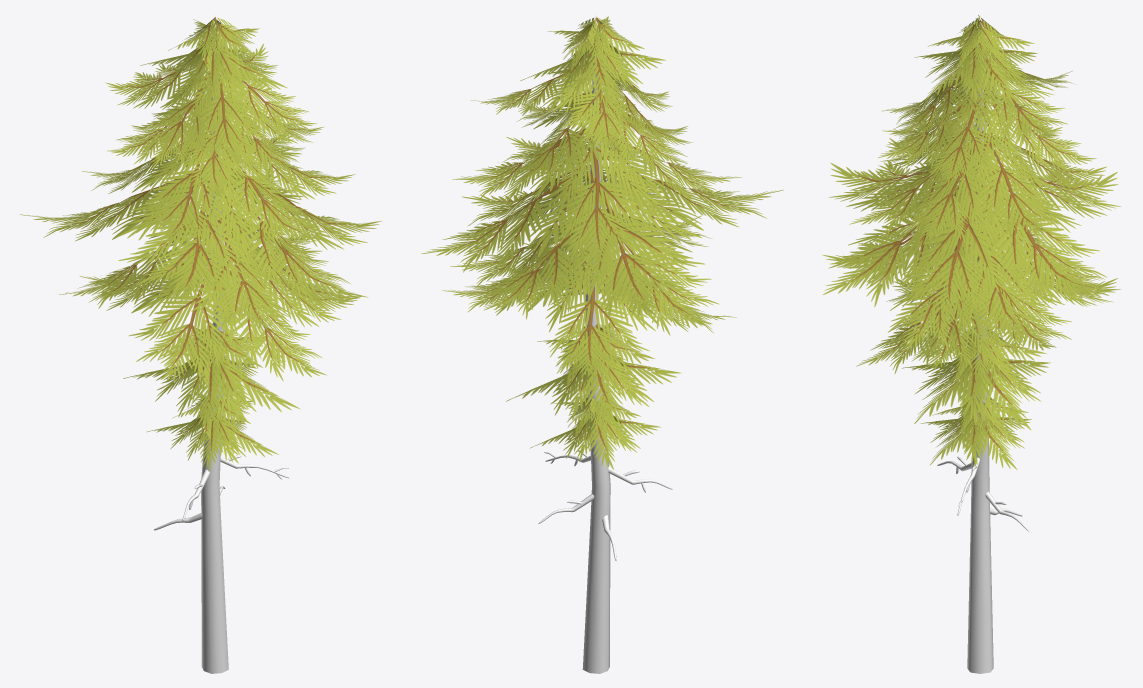
Rendered from pine_tree_2.glb.
3 renders of one model, left to right at view 1: azimuth 30°, elevation 25°; view 2: azimuth 150°, elevation 25°; view 3: azimuth 270°, elevation 25°, orthographic.
Parts seen in each view (by area): view 1: PineTree_2.001; view 2: PineTree_2.001; view 3: PineTree_2.001.
Part boxes in pixels (<box>): PineTree_2.001: <box>19,14,381,673</box>; PineTree_2.001: <box>421,14,783,673</box>; PineTree_2.001: <box>822,14,1121,673</box>.
Bounding box in the file's own units: 3.28 × 6.91 × 2.98.
Materials: 2 (1 with a texture image).
